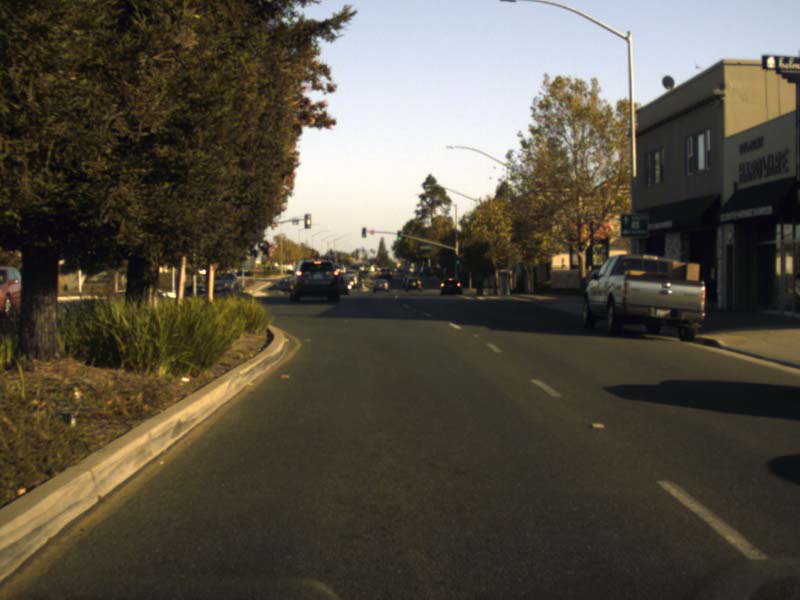Green: (361, 227, 365, 237), (397, 231, 401, 240), (455, 256, 458, 265)
